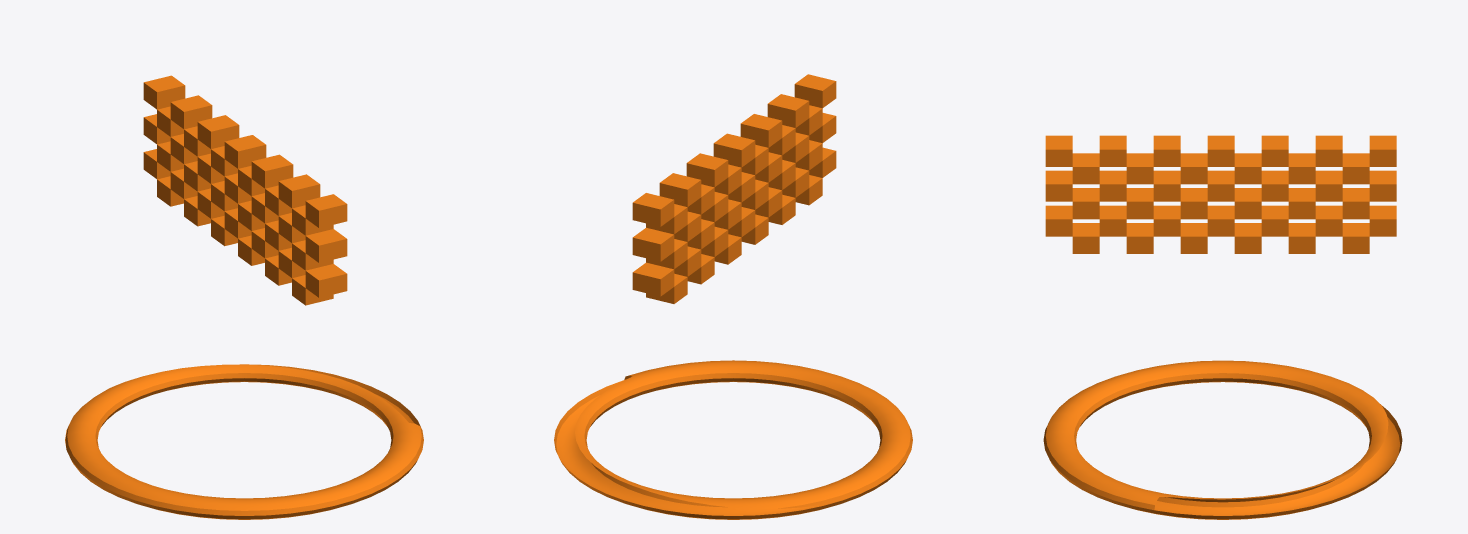
Rendered from FinishLine.fbx.
3 views of the same model, side by side, from view 1: azimuth 30°, elevation 25°; view 2: azimuth 150°, elevation 25°; view 3: azimuth 270°, elevation 25° (orthographic).
Visible parts, largest first — view 1: Cylinder.016; view 2: Cylinder.016; view 3: Cylinder.016.
Boxes of the visible parts, <box> form: Cylinder.016: <box>65,75,423,519</box>; Cylinder.016: <box>554,74,912,519</box>; Cylinder.016: <box>1043,135,1402,519</box>.
Bounding box in the file's own units: 283 × 228 × 283.
1 material, 1 textured.
